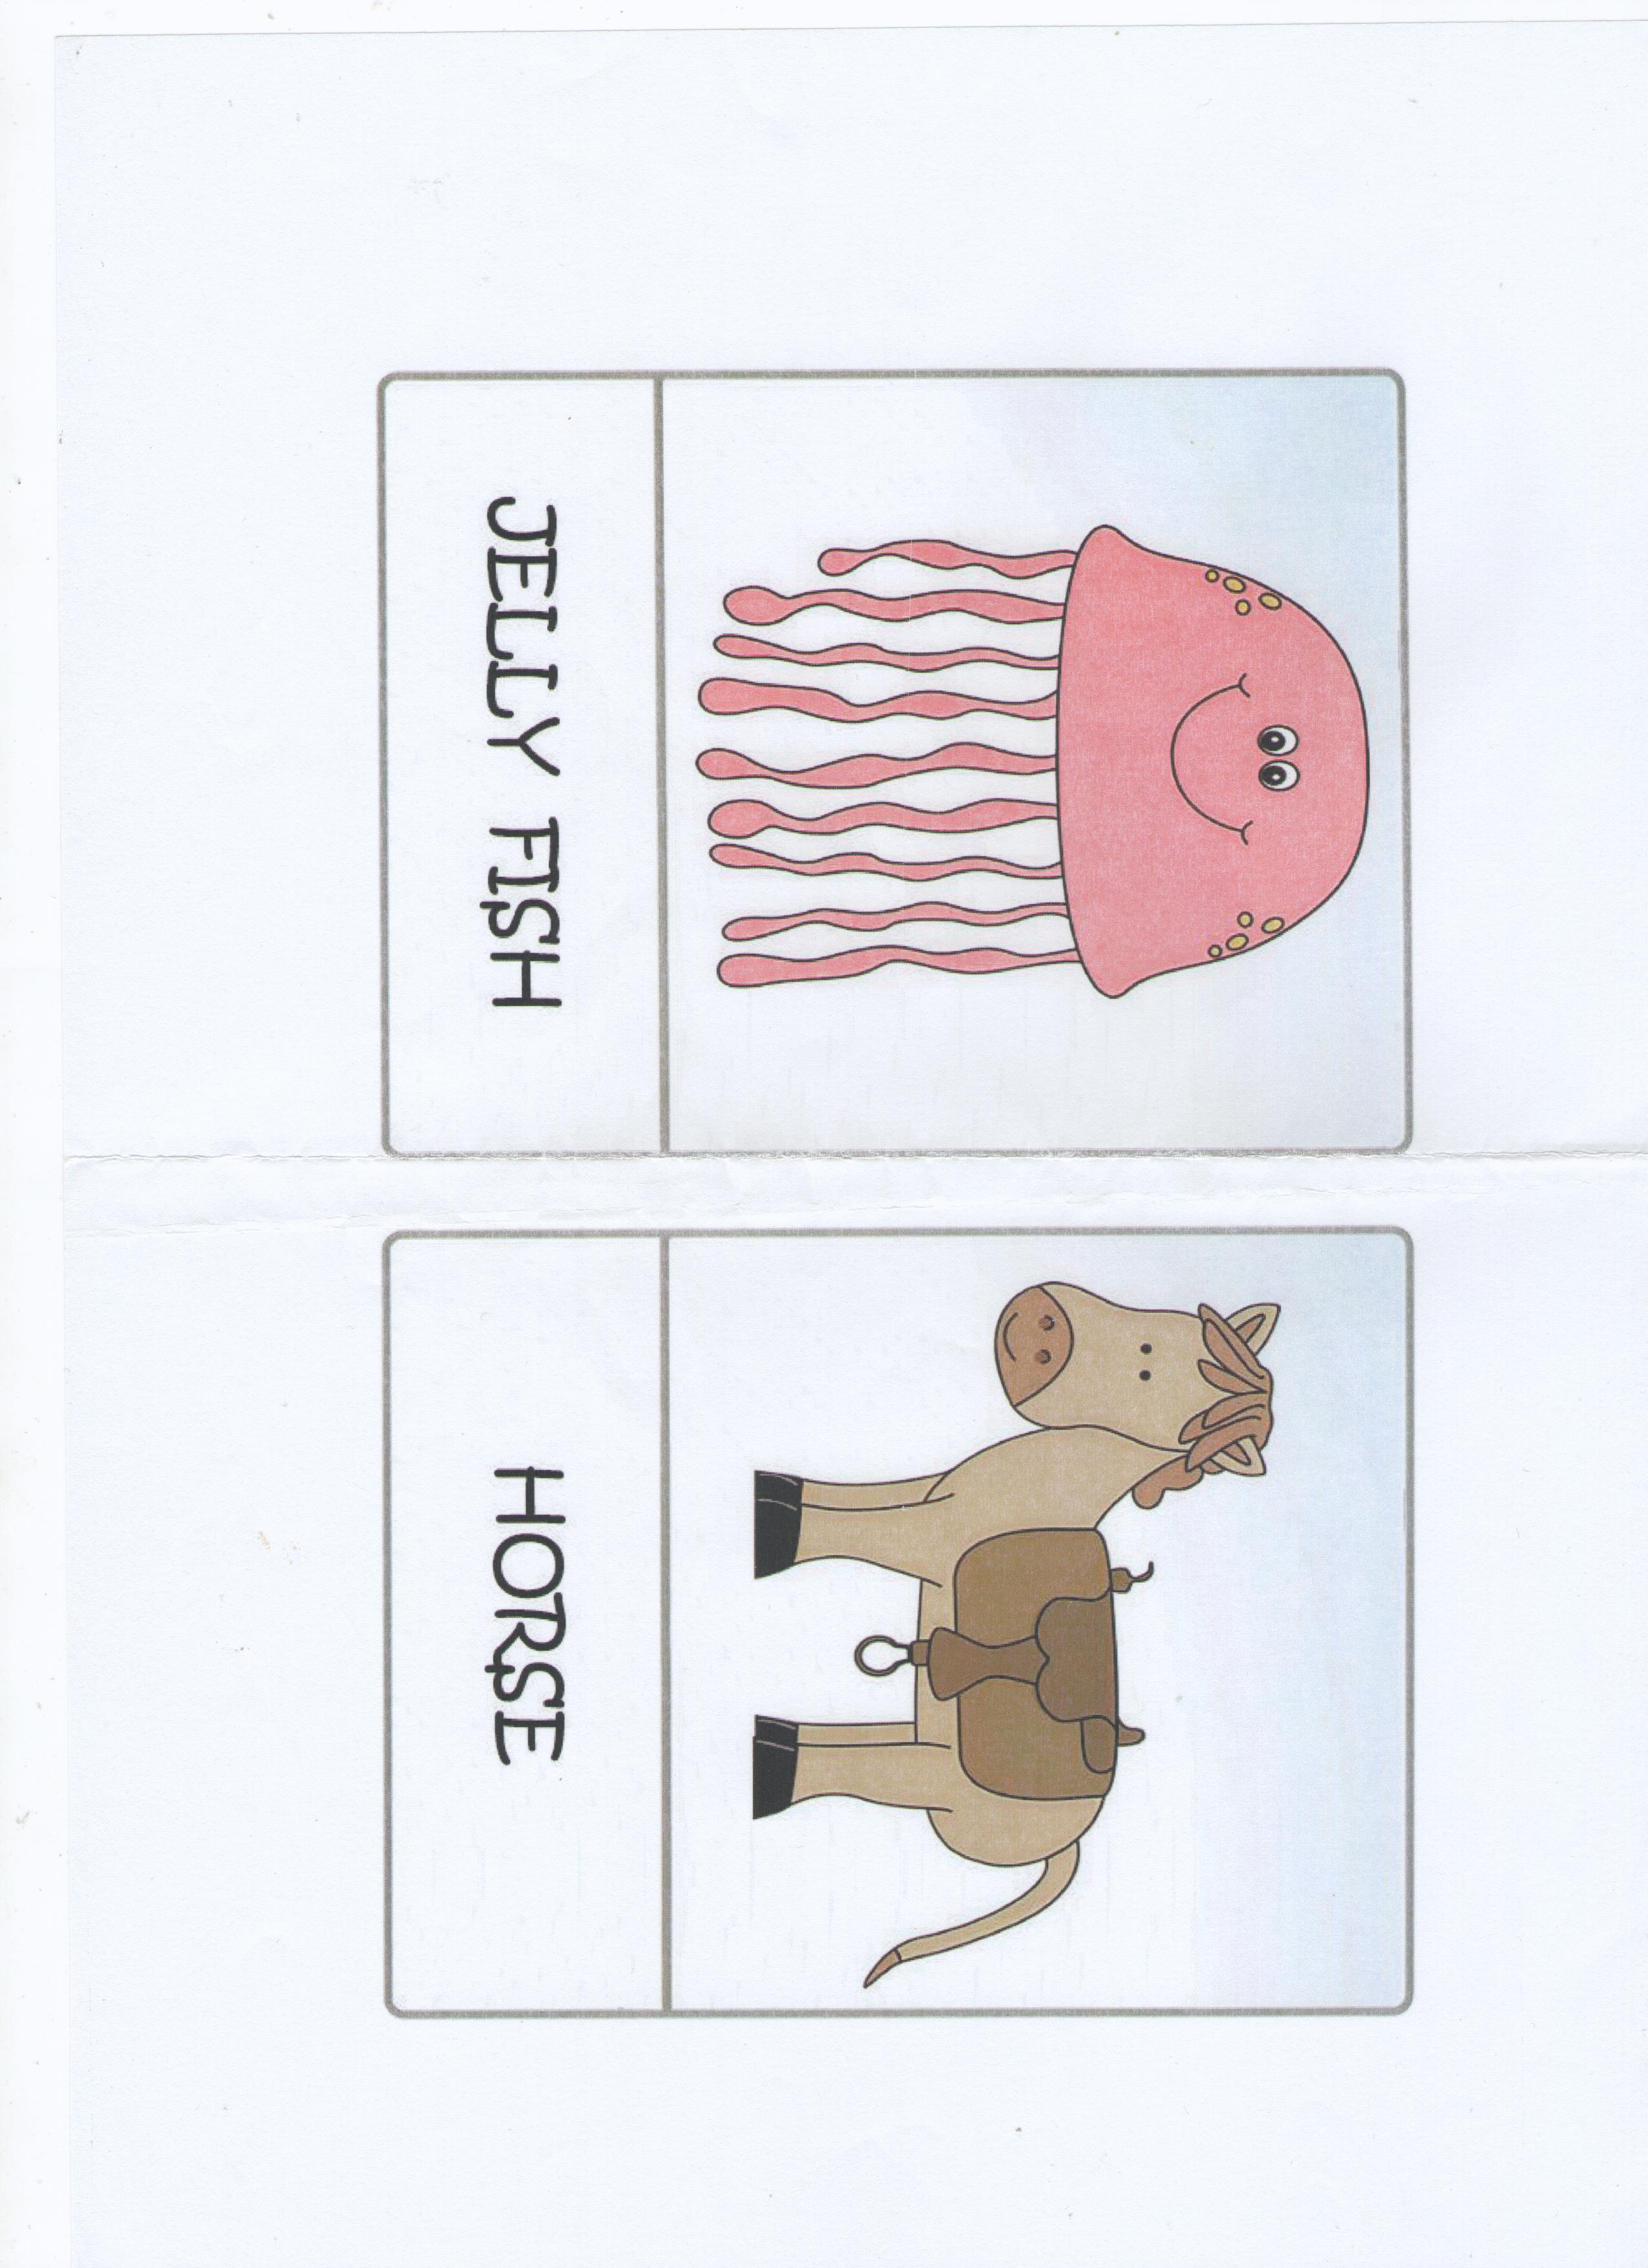cavallo: (407, 1251, 1303, 1981)
medusa: (403, 402, 1415, 1115)
